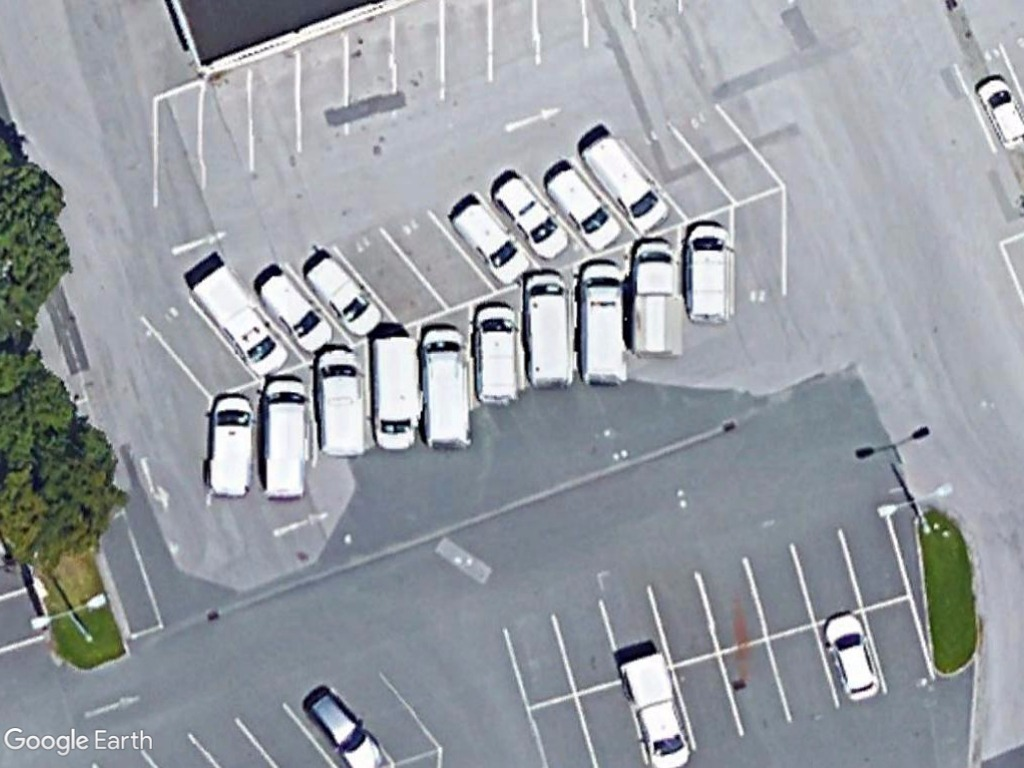car: (489, 167, 581, 264), (446, 195, 534, 286), (300, 251, 387, 340), (258, 268, 343, 357), (546, 160, 625, 252), (300, 687, 388, 768), (818, 605, 883, 709), (469, 297, 526, 414), (204, 386, 257, 502)
others: (613, 651, 696, 768), (625, 235, 686, 367)
van: (186, 255, 292, 382), (575, 132, 676, 233), (571, 252, 636, 395), (417, 322, 474, 459), (258, 373, 315, 508), (314, 344, 378, 462), (365, 332, 423, 457), (525, 262, 575, 395), (679, 217, 731, 325)
